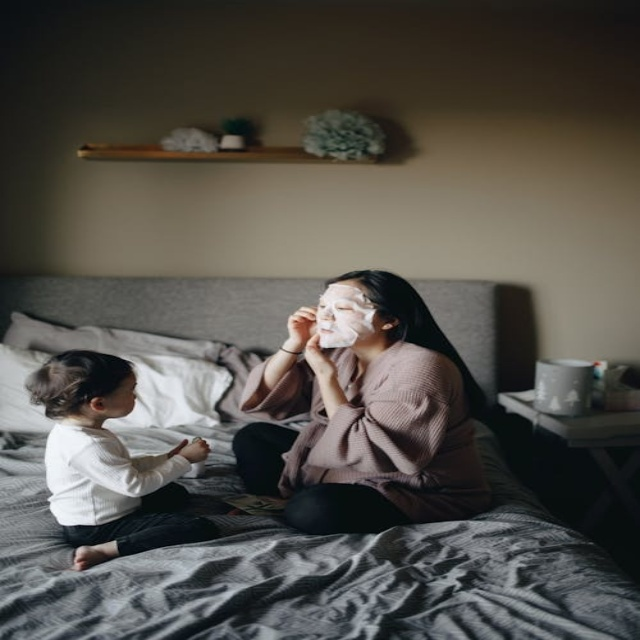Sin_gafas: (310, 300, 364, 315)
Sin_guantes: (294, 337, 344, 382), (161, 431, 216, 468), (283, 304, 317, 351)
Sin_mascara: (312, 323, 344, 340)
